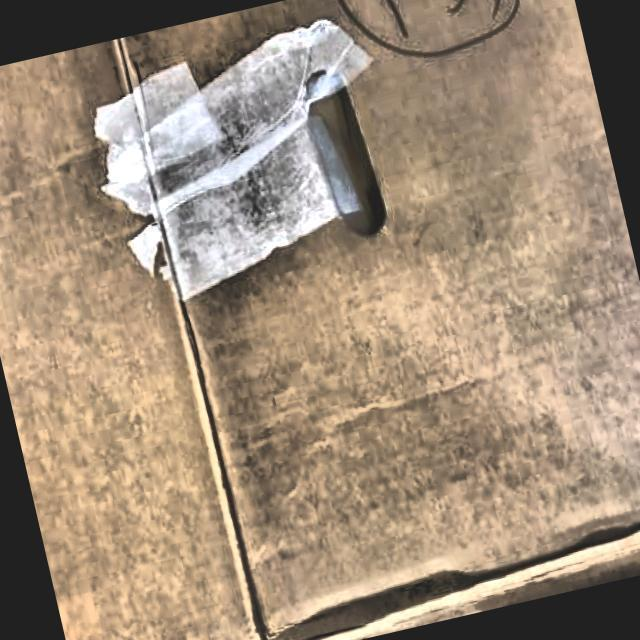cardboard: (75, 8, 415, 315)
